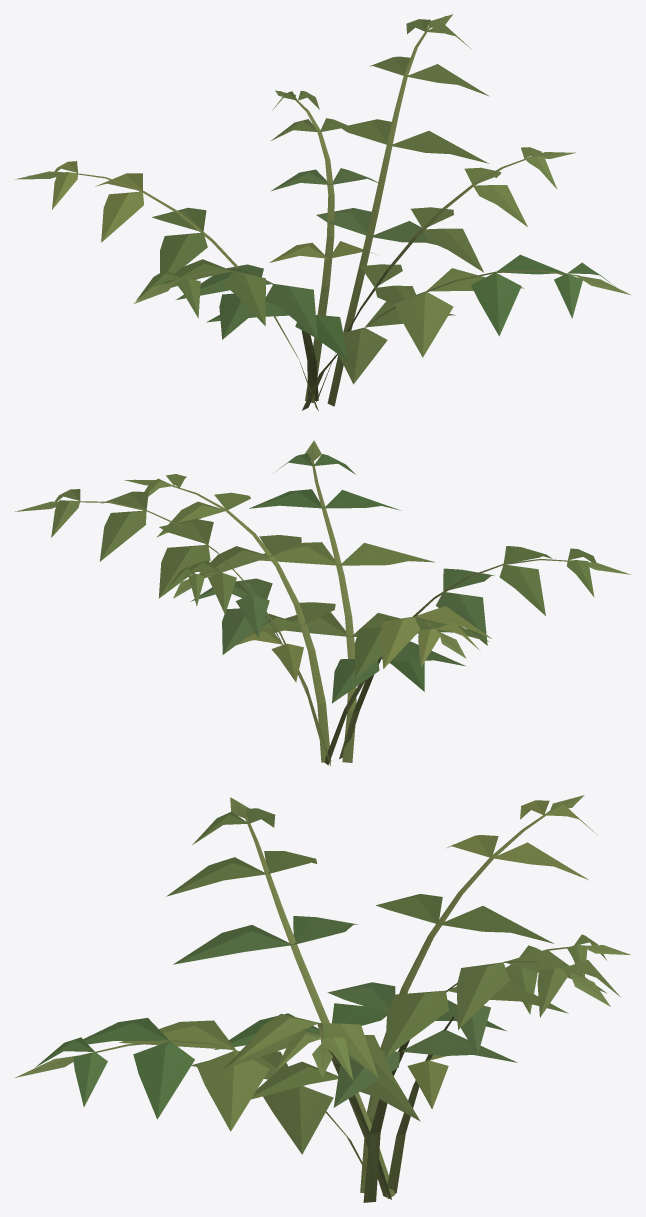
The model's file is fern_spray_lod1.glb.
3 views of the same model, one above another, from view 1: azimuth 30°, elevation 25°; view 2: azimuth 150°, elevation 25°; view 3: azimuth 270°, elevation 25° (orthographic). The views are drawn at different scales.
Visible parts, largest first — view 1: fern_spray_lod1; view 2: fern_spray_lod1; view 3: fern_spray_lod1.
Boxes of the visible parts, x1,y1,x2,y2 form: fern_spray_lod1: (14,14,631,410); fern_spray_lod1: (15,440,631,766); fern_spray_lod1: (15,795,630,1202).
Bounding box in the file's own units: 1.06 × 0.5919 × 0.9593.
